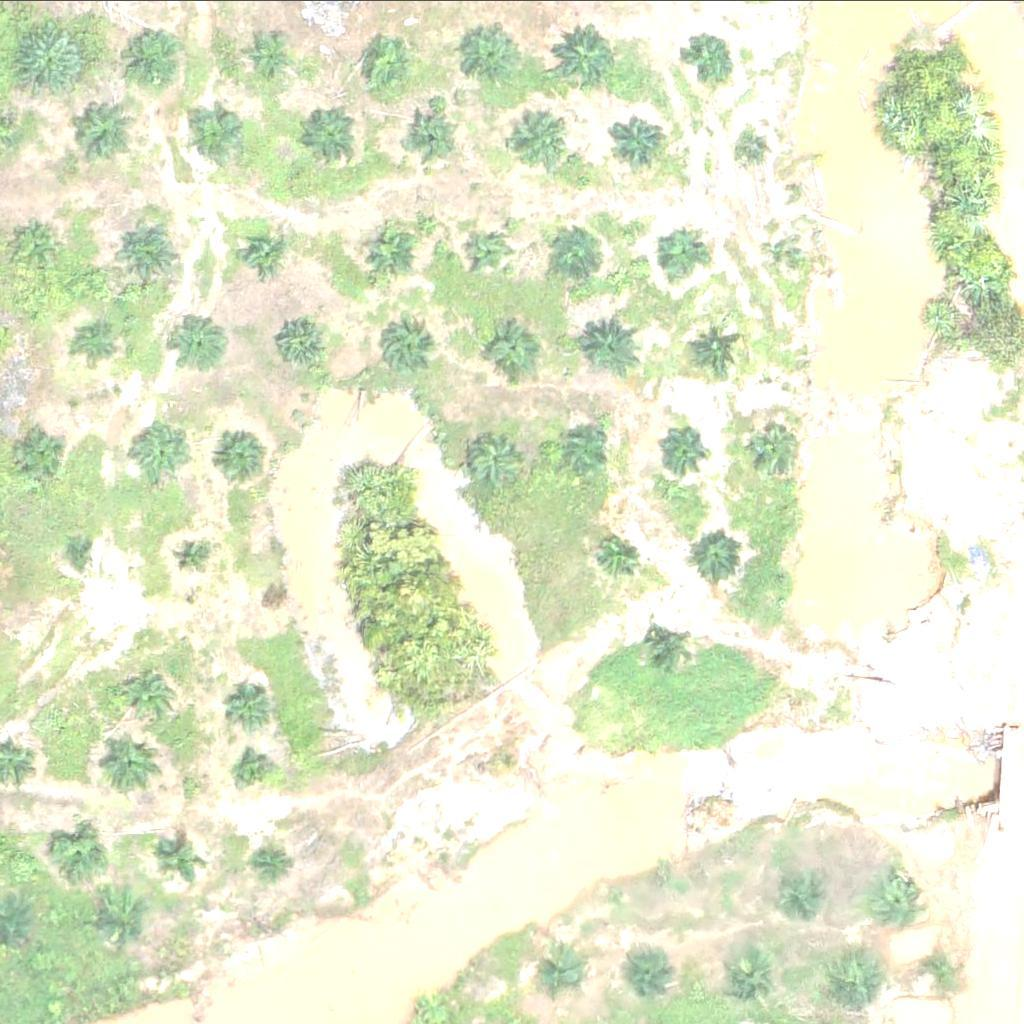Kelapa_Sawit: (115, 20, 191, 95), (11, 20, 87, 95), (70, 103, 133, 166), (821, 944, 884, 1007), (584, 315, 647, 378), (116, 218, 179, 281), (117, 664, 180, 727), (550, 25, 613, 87), (513, 107, 576, 169), (460, 28, 523, 90), (716, 945, 779, 1007), (213, 425, 276, 487), (355, 221, 418, 283), (131, 421, 194, 483), (99, 731, 162, 793), (912, 944, 963, 994), (651, 230, 702, 280), (552, 226, 603, 276), (489, 328, 540, 378), (175, 317, 226, 367), (474, 434, 525, 484), (557, 423, 608, 473), (655, 423, 706, 473), (694, 323, 745, 373), (276, 320, 327, 370), (240, 229, 291, 279), (12, 427, 63, 477), (617, 115, 667, 165), (684, 34, 734, 84), (401, 108, 451, 158), (195, 105, 245, 155), (305, 109, 355, 159), (361, 42, 411, 92), (627, 941, 677, 991), (537, 945, 587, 995), (379, 323, 429, 373), (695, 532, 745, 582), (878, 873, 928, 923), (773, 863, 823, 913), (756, 421, 806, 471), (591, 529, 641, 579), (647, 620, 697, 670), (56, 828, 106, 878), (225, 679, 275, 729), (106, 890, 156, 940), (251, 39, 289, 77), (81, 326, 119, 364), (161, 841, 199, 879), (252, 840, 290, 878), (235, 753, 273, 791), (24, 222, 62, 259), (468, 233, 506, 270), (172, 535, 210, 572), (737, 134, 762, 159), (69, 541, 94, 566), (771, 229, 796, 254)
